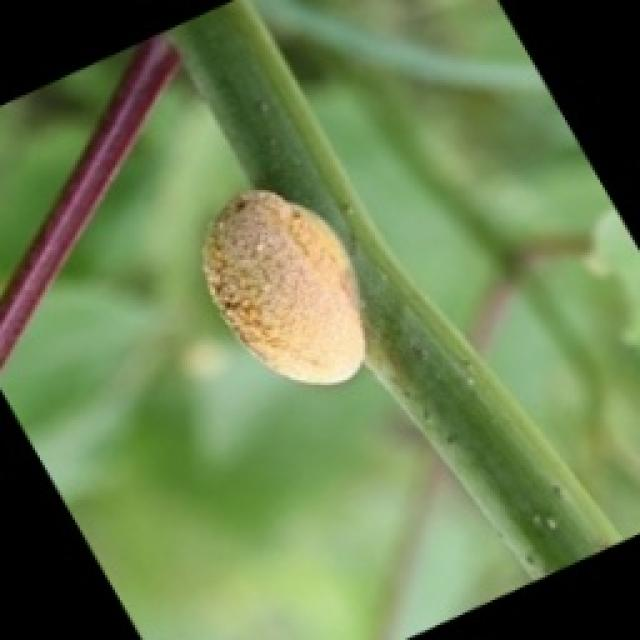Elderberry_rust: (182, 188, 395, 376)
